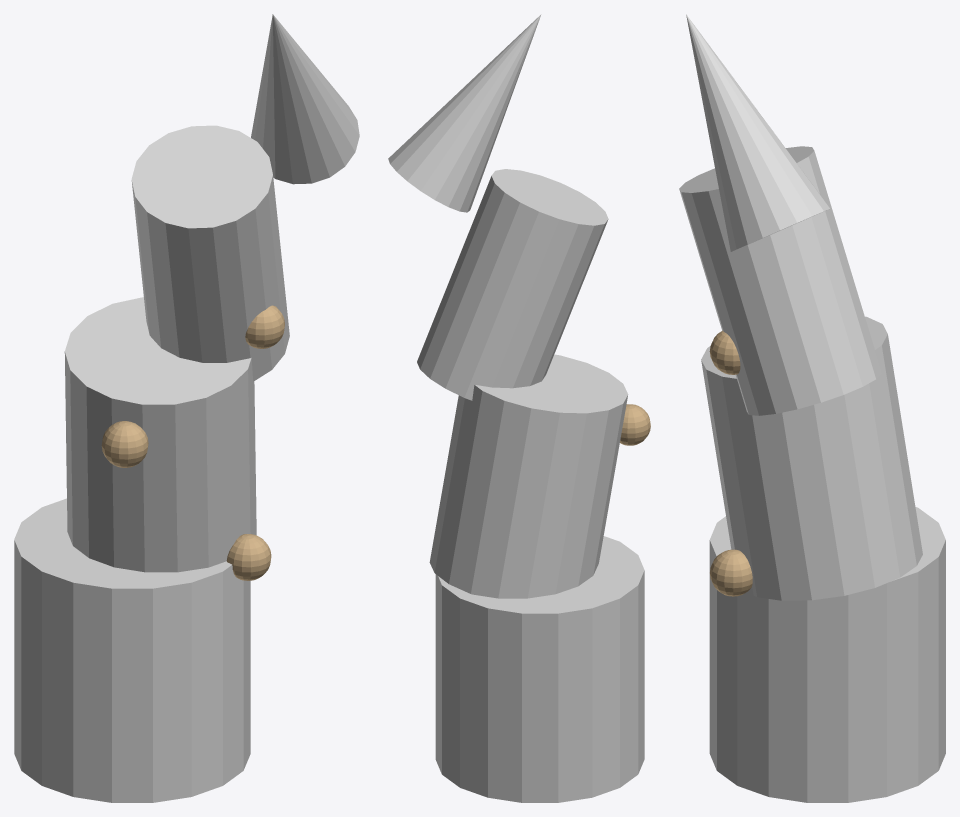
The model's file is tentacle.14d8b1e6.glb.
3 renders of one model, left to right at view 1: azimuth 30°, elevation 25°; view 2: azimuth 150°, elevation 25°; view 3: azimuth 270°, elevation 25°, orthographic. The views are drawn at different scales.
Parts seen in each view (by area): view 1: accent, body; view 2: accent, body; view 3: accent, body.
Boxes of the visible parts, x1=… form: accent: x1=14, y1=14, x2=359, y2=802; body: x1=101, y1=305, x2=284, y2=580; accent: x1=388, y1=14, x2=644, y2=802; body: x1=620, y1=404, x2=650, y2=445; accent: x1=679, y1=14, x2=945, y2=802; body: x1=709, y1=330, x2=752, y2=596.
Size of the model in its own units: 0.4296 by 1.08 by 0.3389.
